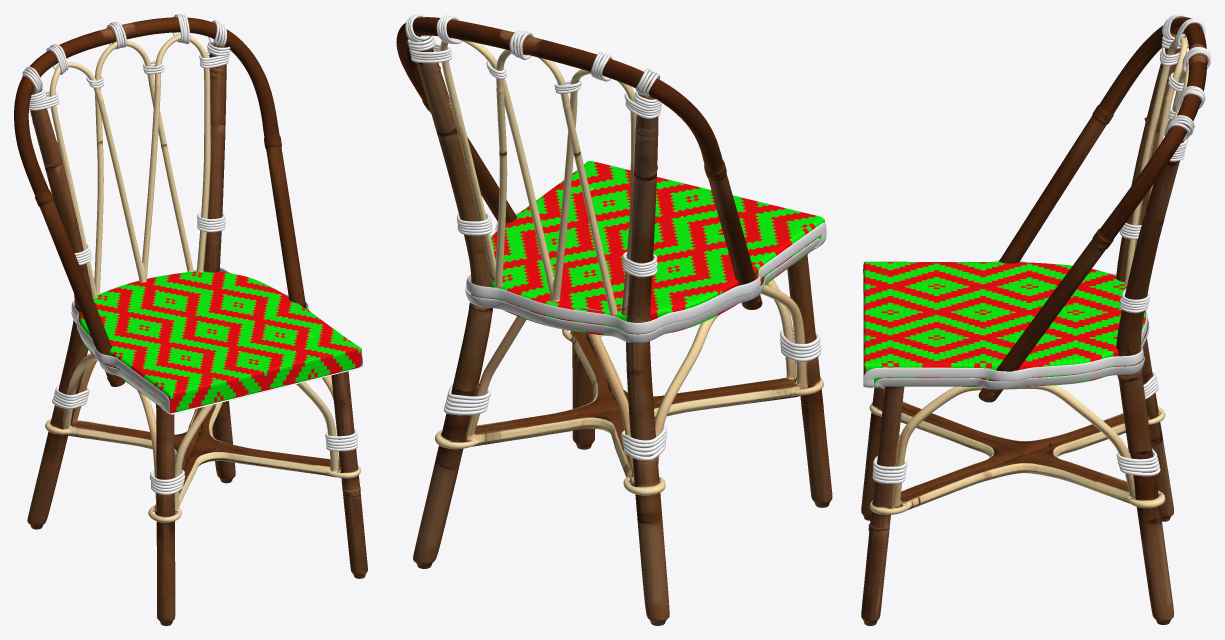
The model's file is harpe-serge.glb.
The picture shows the model from 3 angles, left to right: view 1: azimuth 30°, elevation 25°; view 2: azimuth 150°, elevation 25°; view 3: azimuth 270°, elevation 25°; orthographic projection. The views are drawn at different scales.
Parts seen in each view (by area): view 1: mesh_structure, mesh_tressage, mesh_laniere; view 2: mesh_structure, mesh_tressage, mesh_laniere; view 3: mesh_structure, mesh_tressage, mesh_laniere.
Part boxes in pixels (left/top/right/bottom): mesh_structure: left=14, top=17, right=367, bottom=625; mesh_tressage: left=79, top=271, right=361, bottom=413; mesh_laniere: left=22, top=14, right=362, bottom=494; mesh_structure: left=396, top=17, right=832, bottom=625; mesh_tressage: left=490, top=161, right=824, bottom=335; mesh_laniere: left=405, top=14, right=826, bottom=460; mesh_structure: left=861, top=17, right=1207, bottom=625; mesh_tressage: left=863, top=261, right=1146, bottom=386; mesh_laniere: left=863, top=14, right=1210, bottom=483.
Bounding box in the file's own units: 0.5059 × 0.9058 × 0.549.
3 materials, 2 textured.
